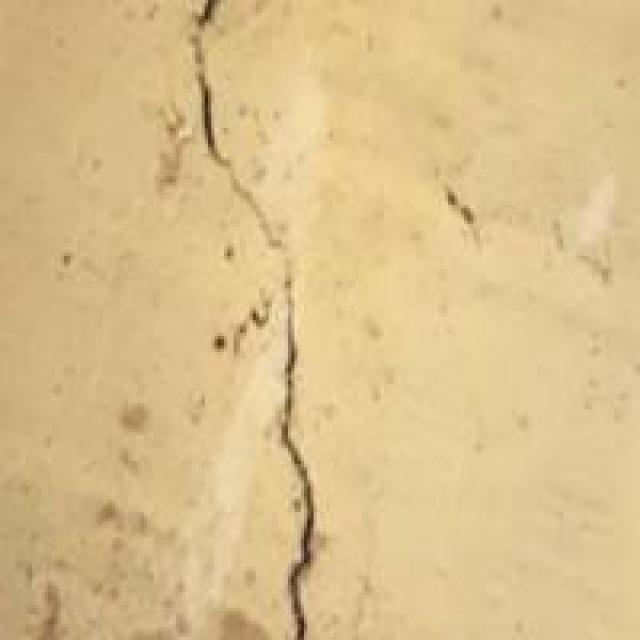crack: (154, 3, 342, 637)
